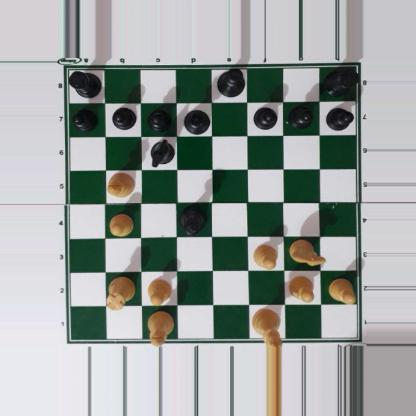black-bishop: (181, 108, 211, 135)
black-king: (215, 67, 246, 98)
black-knight: (146, 138, 175, 168)
black-pawn: (326, 105, 353, 131), (252, 104, 277, 128), (288, 105, 314, 128), (111, 106, 135, 130), (147, 107, 171, 131), (72, 107, 97, 130)
black-queen: (177, 205, 207, 235)
black-rook: (66, 68, 101, 98), (324, 67, 358, 96)
white-bishop: (147, 309, 174, 347), (106, 172, 134, 198)
white-king: (251, 308, 284, 348)
white-knight: (288, 238, 326, 266)
white-pawn: (288, 274, 316, 304), (328, 277, 356, 304), (146, 278, 172, 306), (252, 243, 277, 269), (108, 213, 134, 237)
white-rook: (105, 276, 135, 311)
